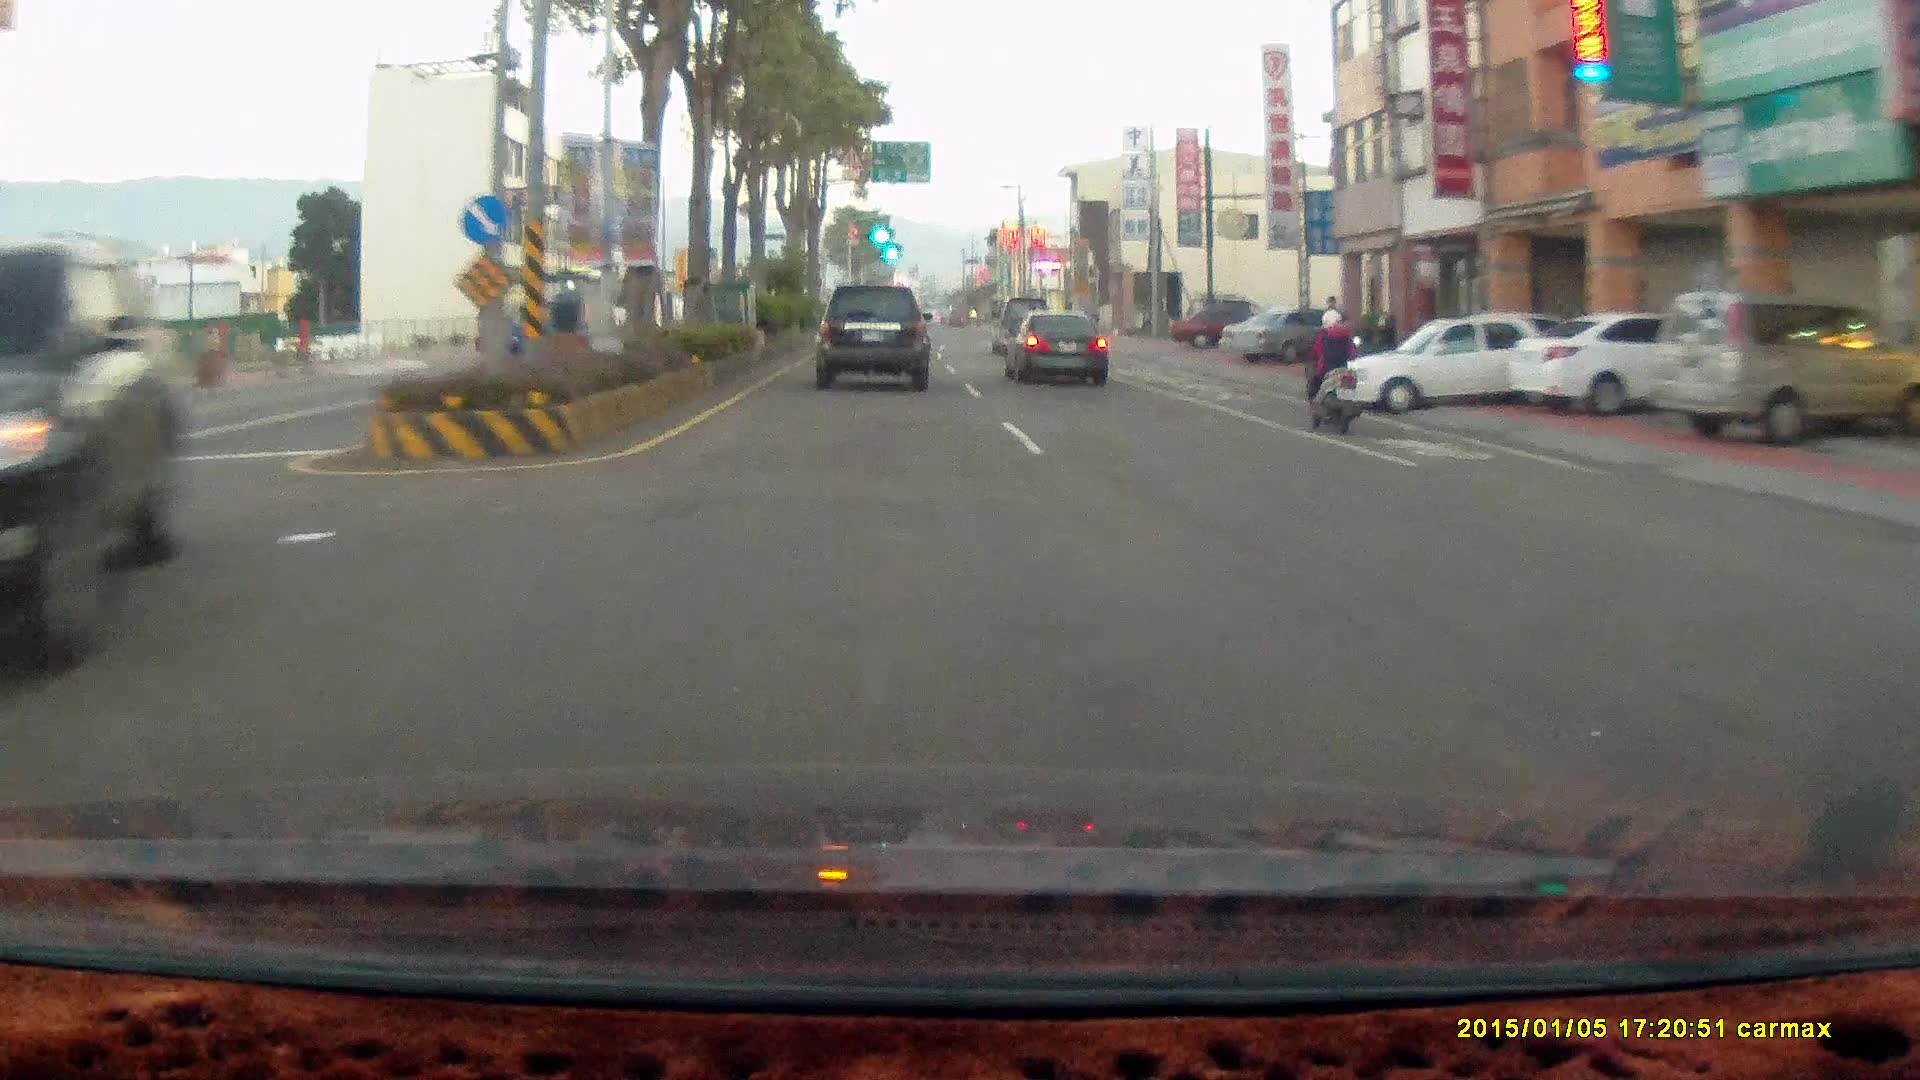rider: (1291, 296, 1376, 442), (1298, 302, 1363, 431)
vehicle: (1, 238, 196, 650), (1, 238, 184, 673), (1651, 288, 1920, 449), (1650, 288, 1919, 448), (1506, 307, 1756, 416), (1335, 310, 1595, 412), (1335, 310, 1567, 415), (1505, 307, 1717, 415), (811, 282, 937, 389), (811, 281, 933, 388), (1007, 311, 1116, 387), (1221, 300, 1355, 360), (1003, 310, 1107, 387), (1220, 308, 1355, 365), (1170, 305, 1285, 349), (989, 291, 1053, 350)
